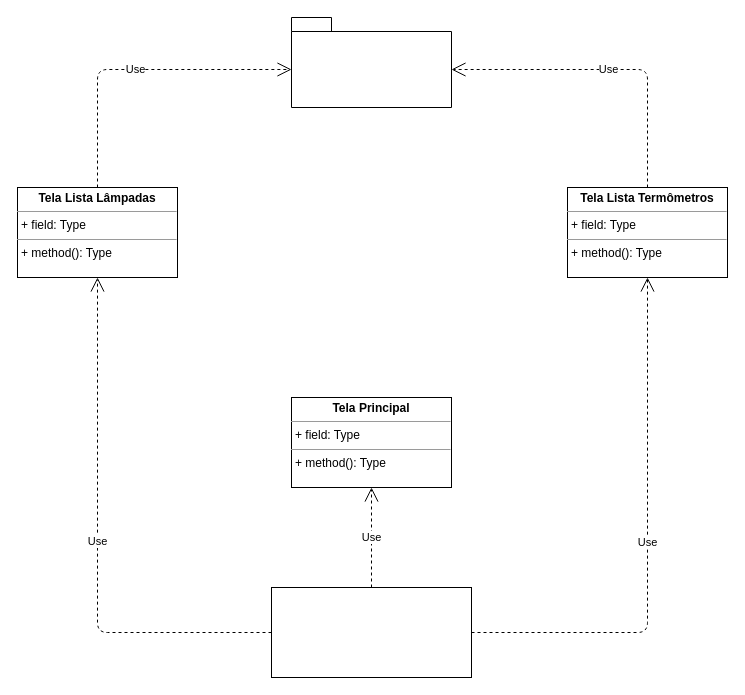
Some shapes in this 745 by 695 pixel diagram are drawn without their labels. Here are the shapes that lost their labels. From the top down, the centre of each, then its label:
At [371,62]: "IoTs".
At [371,632]: "Gerenciador de Telas + field: Type + method(): Type".
